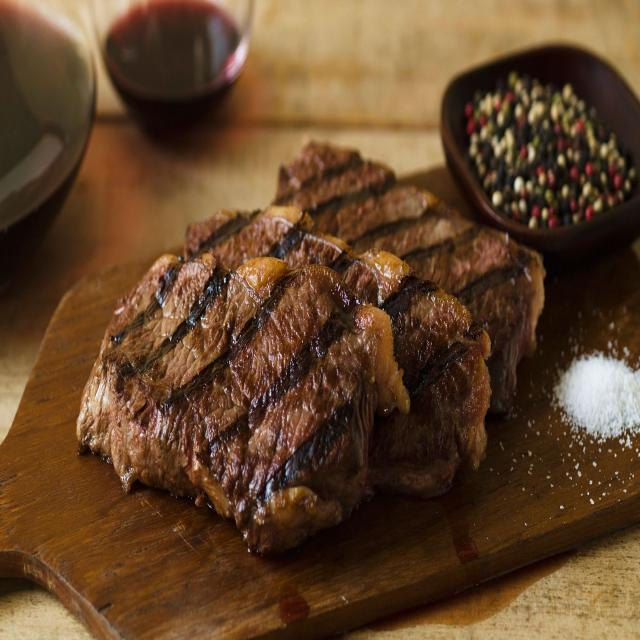carne de res: (162, 199, 494, 554), (77, 243, 404, 566)
